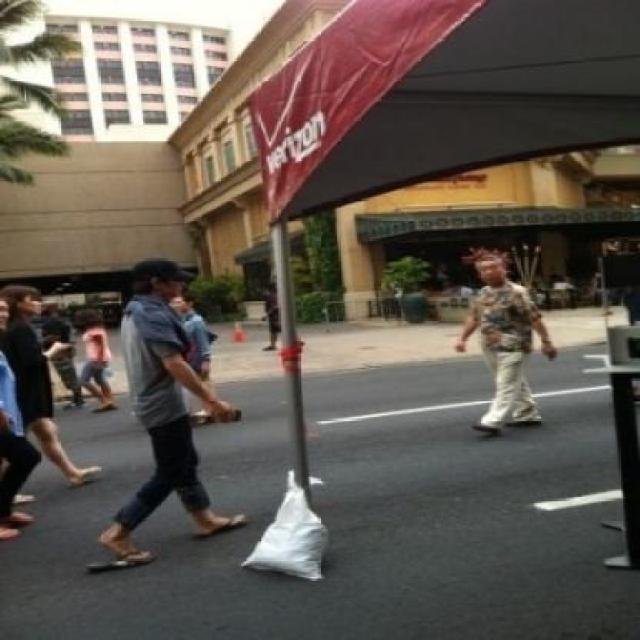hat: (124, 256, 196, 282), (462, 245, 520, 266)
